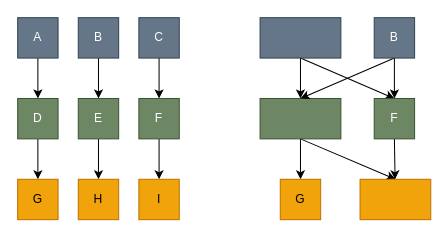
This 448x237 diagram has some shape labels left out. Here are the shapes that lost their labels. From the top down, the centre of each, then its label:
point (300, 37): A C
point (300, 118): D E
point (395, 199): H I
